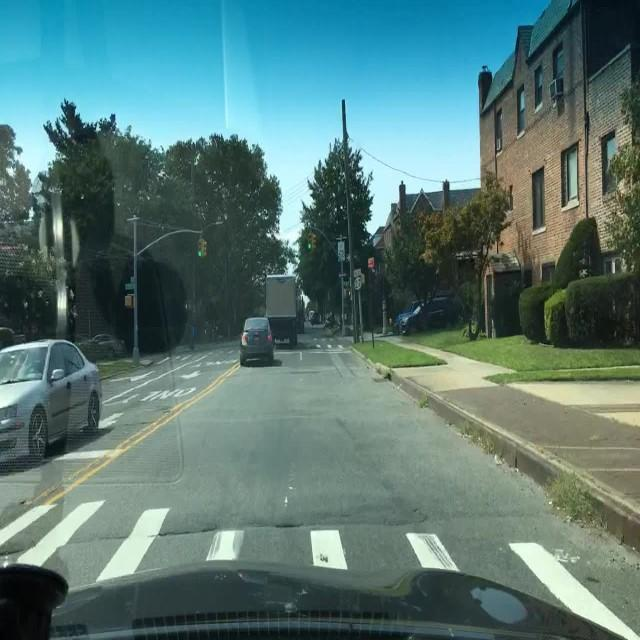normal: (0, 336, 102, 464), (393, 292, 467, 332), (242, 317, 277, 368)
